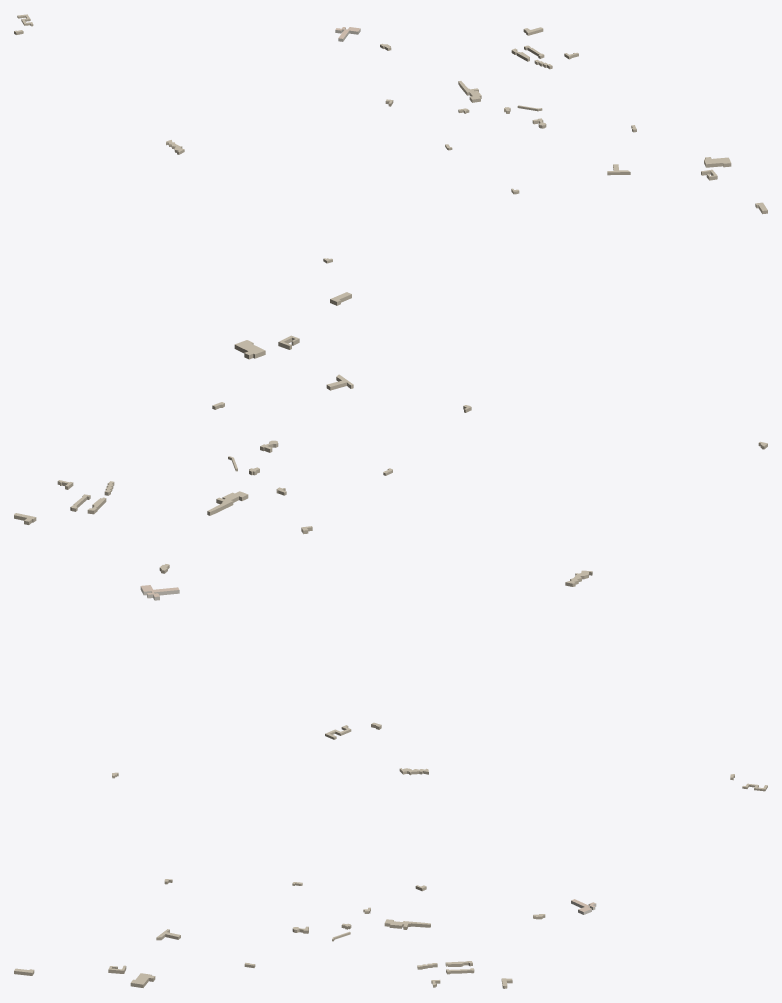
3 renders of one model, top to bottom at view 1: azimuth 30°, elevation 25°; view 2: azimuth 150°, elevation 25°; view 3: azimuth 270°, elevation 25°, orthographic. The views are drawn at different scales.
Bounding box in the file's own units: 1571 × 67.79 × 2457.
